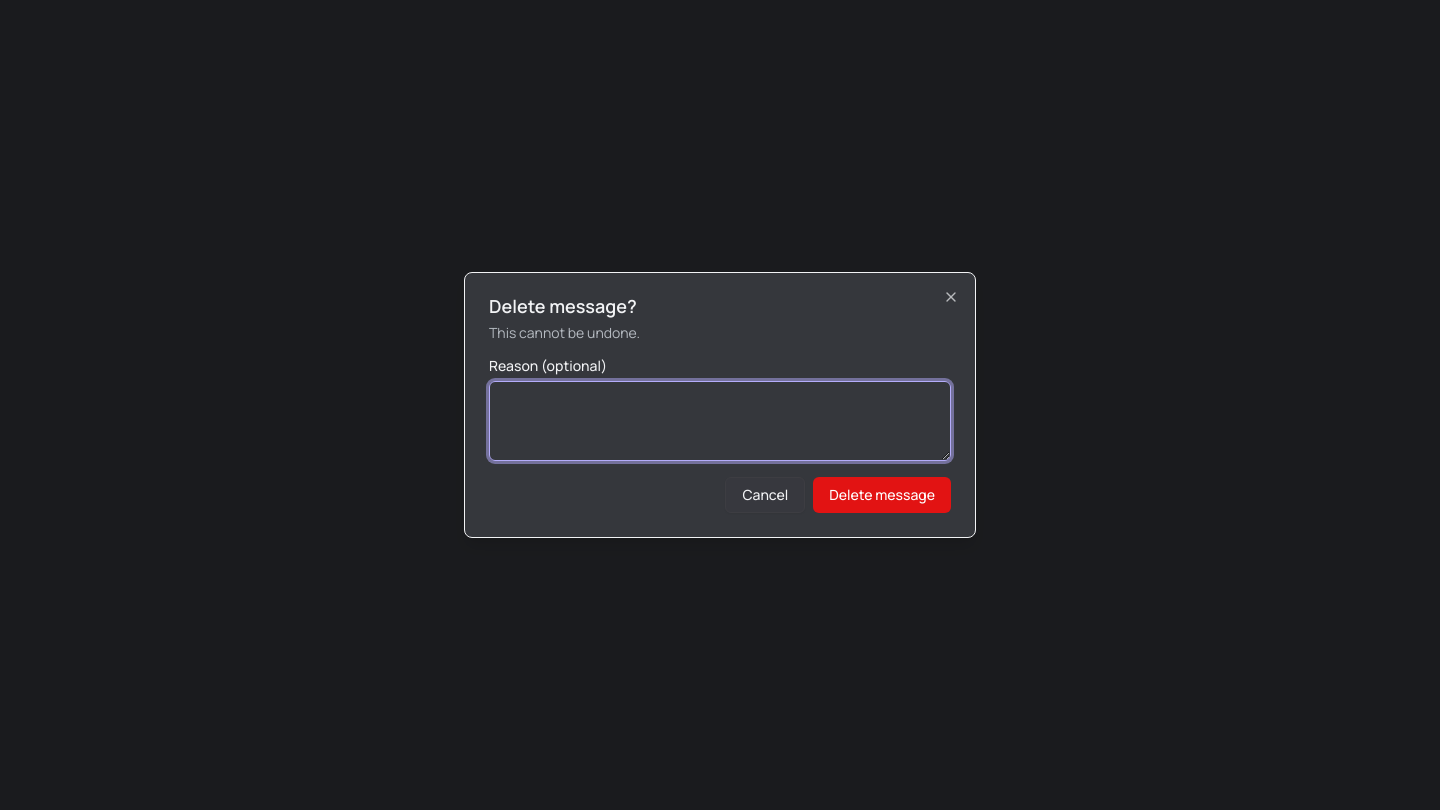
Test: ConfirmWithReasonDialog › keeps the dialog open and shows an error when the action fails
This screenshot has width=1440, height=810.
Step 1. Click the button "Delete message" → (882, 495), box [813,477,951,513]
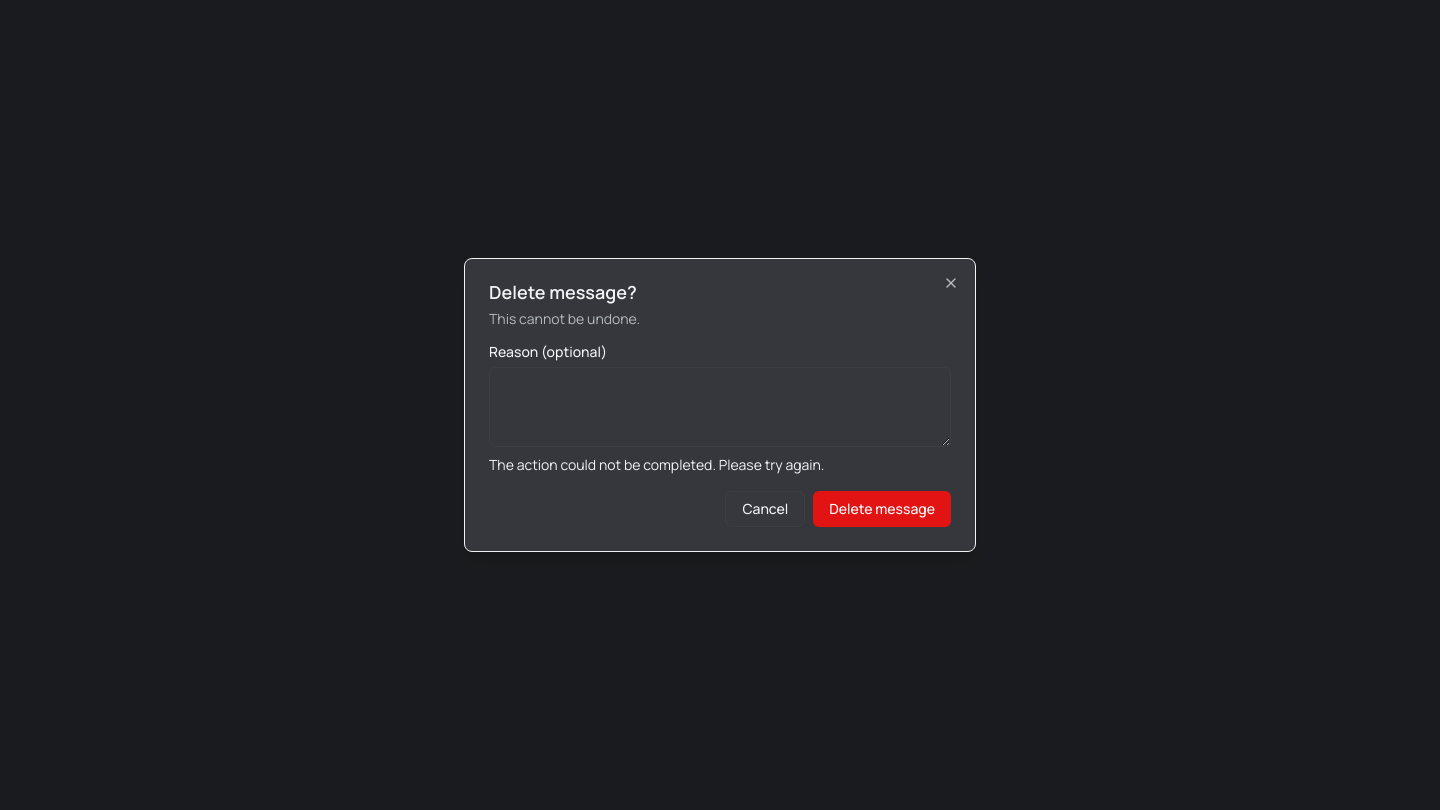
Expected: the dialog is shown, [464,258,976,552]
Expected: the message shows "could not be completed", [489,455,824,474]
